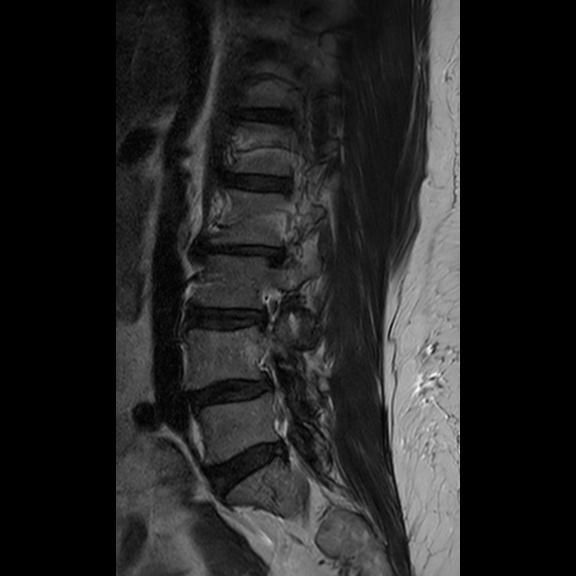RFS0: (246, 276, 293, 342)
